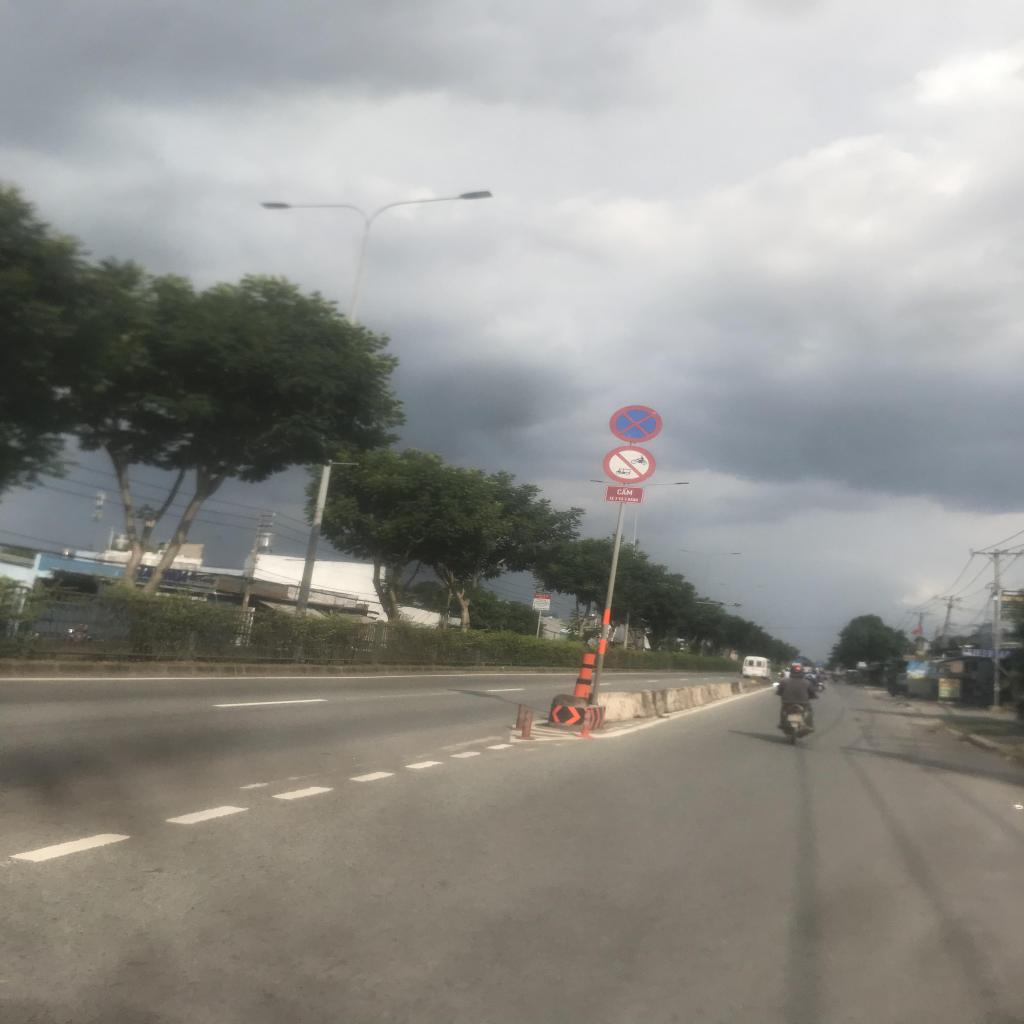cam_dung_xe_va_do_xe: (605, 404, 662, 446)
cam_xe_2_banh_va_xe_3_banh_co_dong_co: (599, 444, 656, 483)
